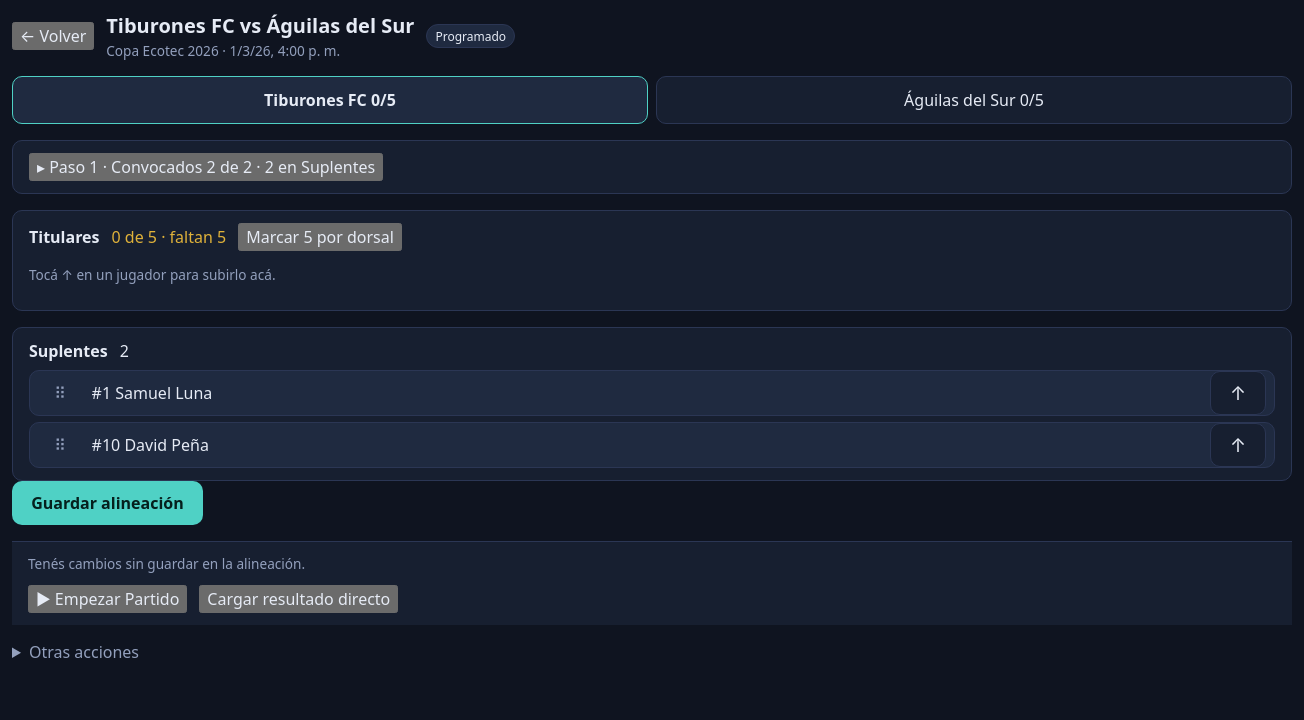
it: GestionarPartido — la plantilla tiene que llegar a la pantalla › lista los jugadores del roster del torneo en el Paso 1
Click the button "▸ Paso 1 · Convocados 2 de 2 · 2 en Suplentes".
click(206, 167)  # box [29, 153, 383, 181]
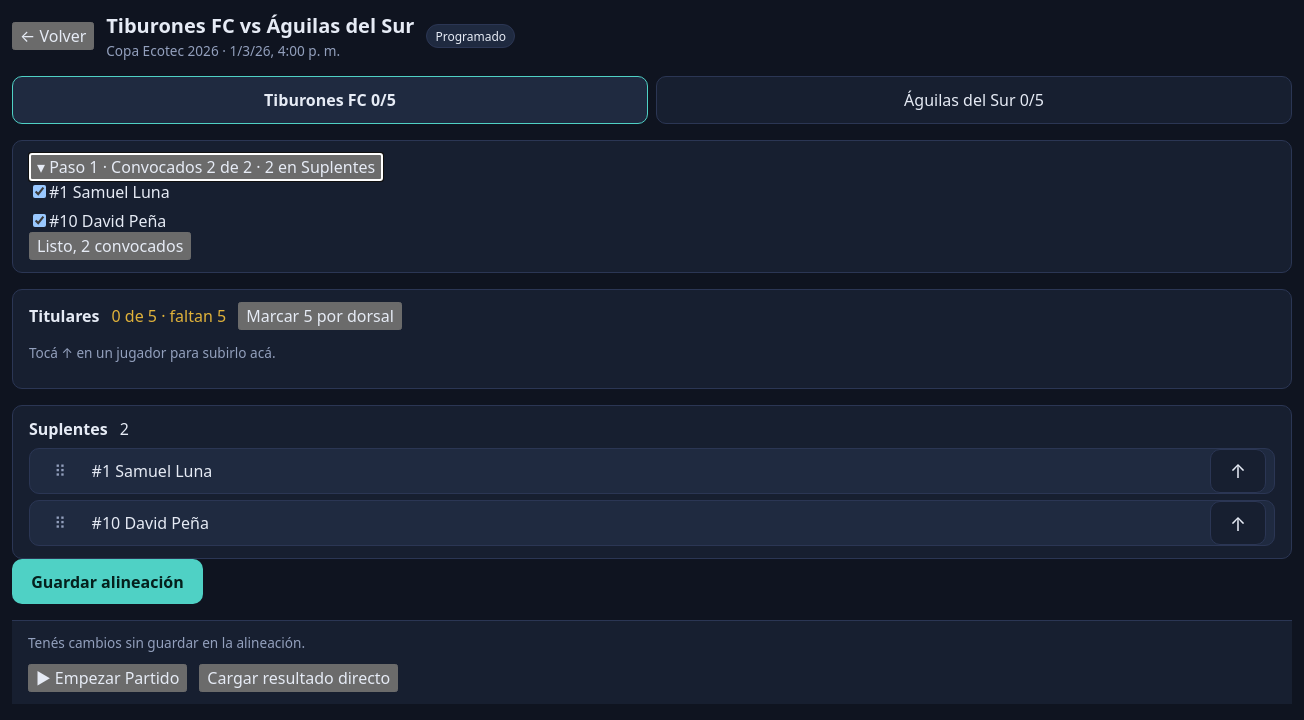
Check: the checkbox labelled "#1 Samuel Luna" is shown, box [33, 185, 46, 198]
Check: the checkbox labelled "#10 David Peña" is shown, box [33, 214, 46, 227]
